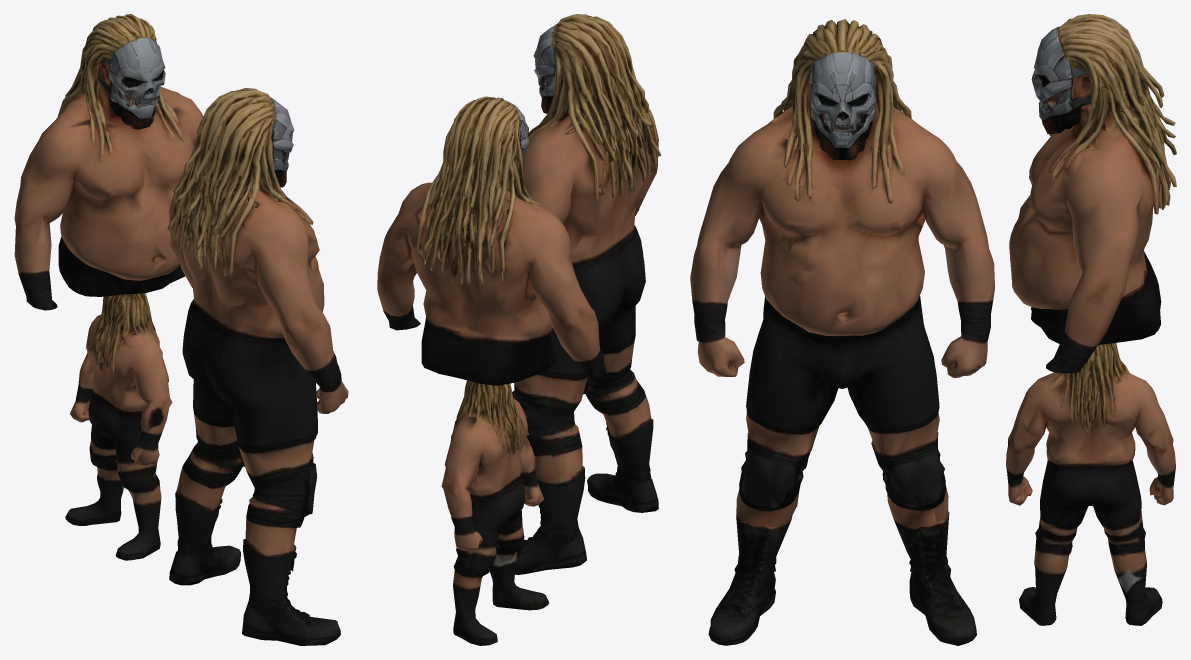
The model's file is BANNON_muscular.glb.
3 renders of one model, left to right at view 1: azimuth 30°, elevation 25°; view 2: azimuth 150°, elevation 25°; view 3: azimuth 270°, elevation 25°, orthographic. The views are drawn at different scales.
Parts seen in each view (by area): view 1: tripo_node_f8bae5d8-72c1-44f4-9b6f-774b74750e5b; view 2: tripo_node_f8bae5d8-72c1-44f4-9b6f-774b74750e5b; view 3: tripo_node_f8bae5d8-72c1-44f4-9b6f-774b74750e5b.
Boxes of the visible parts, x1,y1,x2,y2 form: tripo_node_f8bae5d8-72c1-44f4-9b6f-774b74750e5b: (14,14,348,645); tripo_node_f8bae5d8-72c1-44f4-9b6f-774b74750e5b: (377,14,661,645); tripo_node_f8bae5d8-72c1-44f4-9b6f-774b74750e5b: (690,14,1176,645).
Bounding box in the file's own units: 0.4355 × 1 × 0.7332.
Materials: 1 (1 with a texture image).
